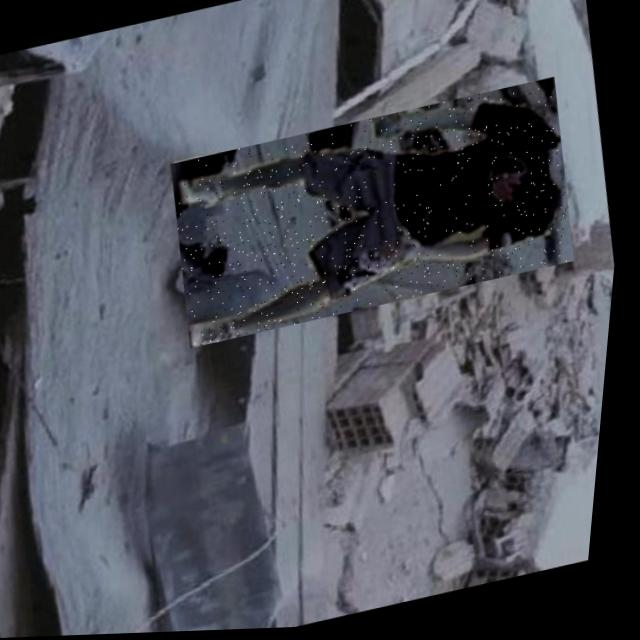Person in Rubble: (160, 80, 591, 351)
